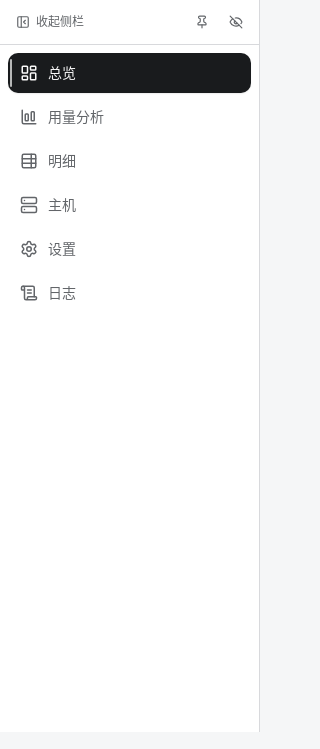
Test case: 侧栏三态切换 › 展开 → 收缩：宽度 64px，文字消失但 aria-label 与 title 仍在
What coordinates should you click on to do the following:
click the button with test id "sidebar-toggle-collapsed"
I would click on:
 (50, 22)
Its box is [8, 8, 92, 36].
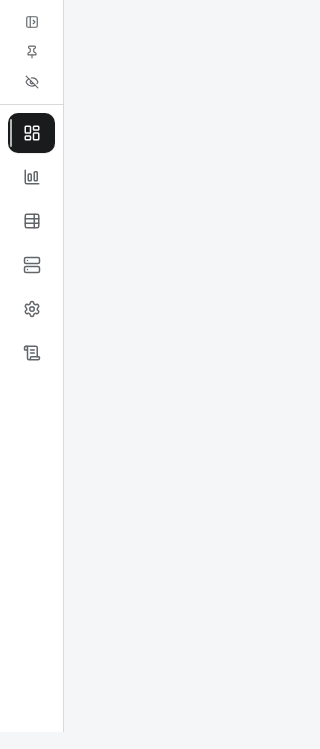
Now the text with test id "nav-overview" no longer shows "总览"
Now the text with test id "nav-detail" no longer shows "明细"
Now the text with test id "nav-hosts" no longer shows "主机"
